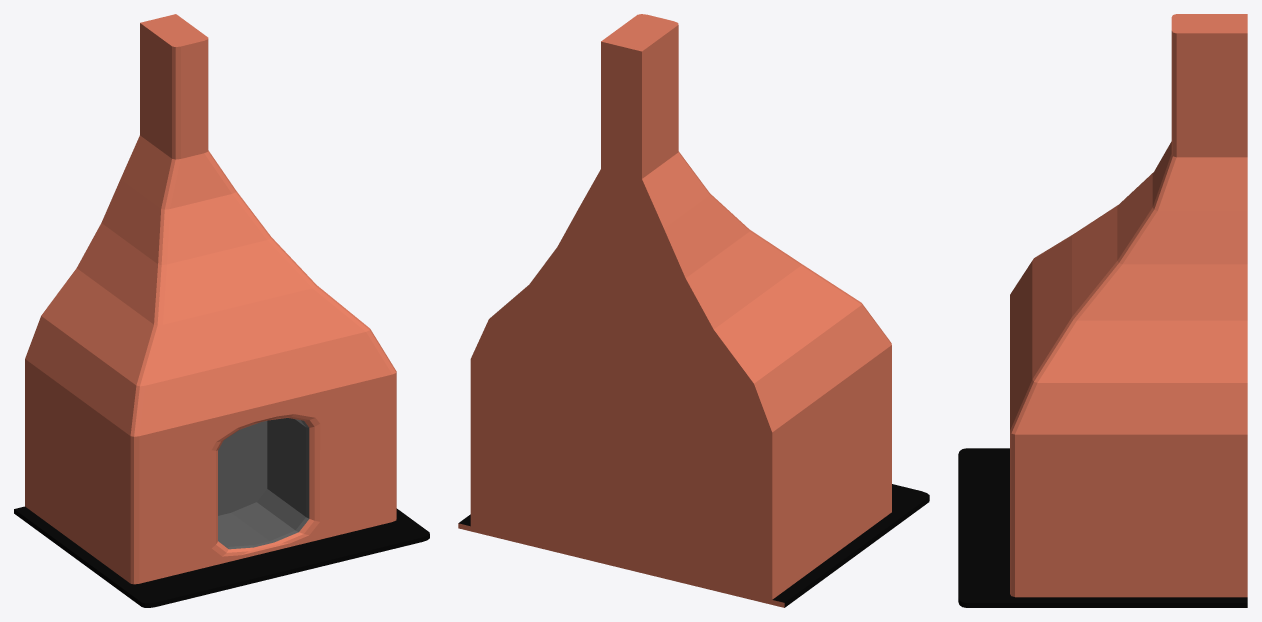
The model's file is Fireplace.fbx.
3 views of the same model, side by side, from view 1: azimuth 30°, elevation 25°; view 2: azimuth 150°, elevation 25°; view 3: azimuth 270°, elevation 25° (orthographic). The views are drawn at different scales.
Parts seen in each view (by area): view 1: Fireplace; view 2: Fireplace; view 3: Fireplace.
Part boxes in pixels (box(x1,y1,x2,y2)): Fireplace: box(14, 14, 429, 607); Fireplace: box(458, 14, 929, 607); Fireplace: box(958, 14, 1247, 607).
Size of the model in its own units: 132 by 202 by 104.
